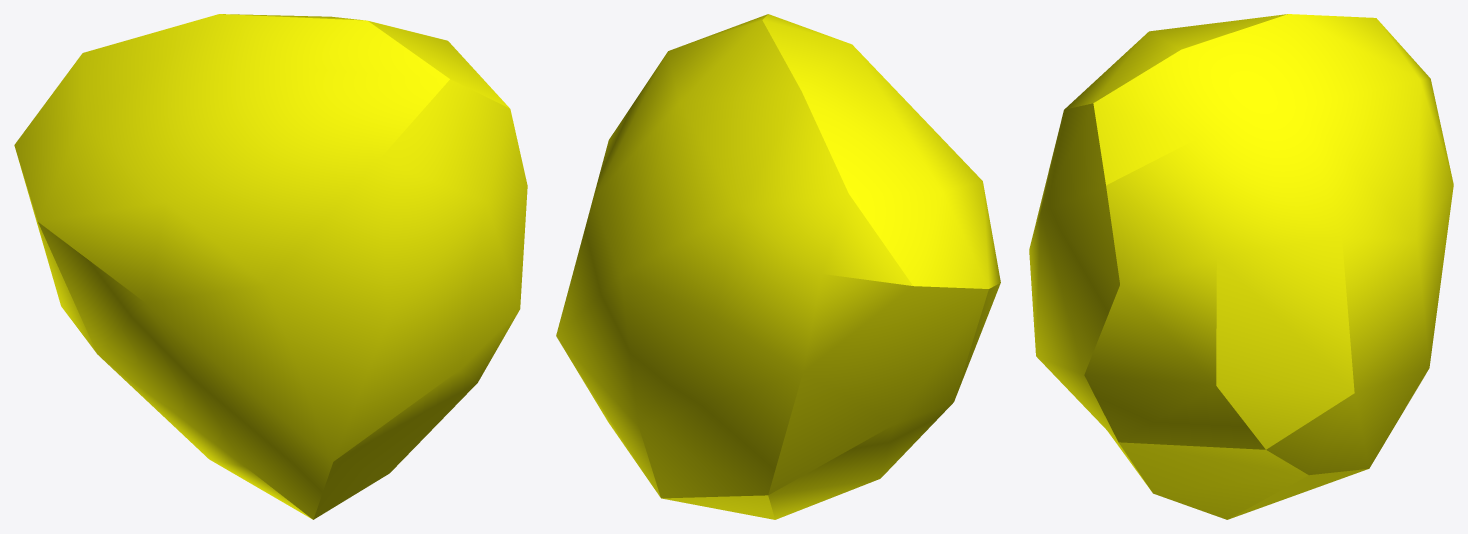
The model's file is kaykit-rock-3-d-color-1.glb.
The picture shows the model from 3 angles, left to right: view 1: azimuth 30°, elevation 25°; view 2: azimuth 150°, elevation 25°; view 3: azimuth 270°, elevation 25°; orthographic projection.
Parts seen in each view (by area): view 1: Rock_3_D_Color1; view 2: Rock_3_D_Color1; view 3: Rock_3_D_Color1.
Boxes of the visible parts, x1,y1,x2,y2 form: Rock_3_D_Color1: (14, 14, 527, 519); Rock_3_D_Color1: (556, 14, 1000, 519); Rock_3_D_Color1: (1029, 14, 1453, 519).
Size of the model in its own units: 0.9325 by 0.9716 by 0.7945.
